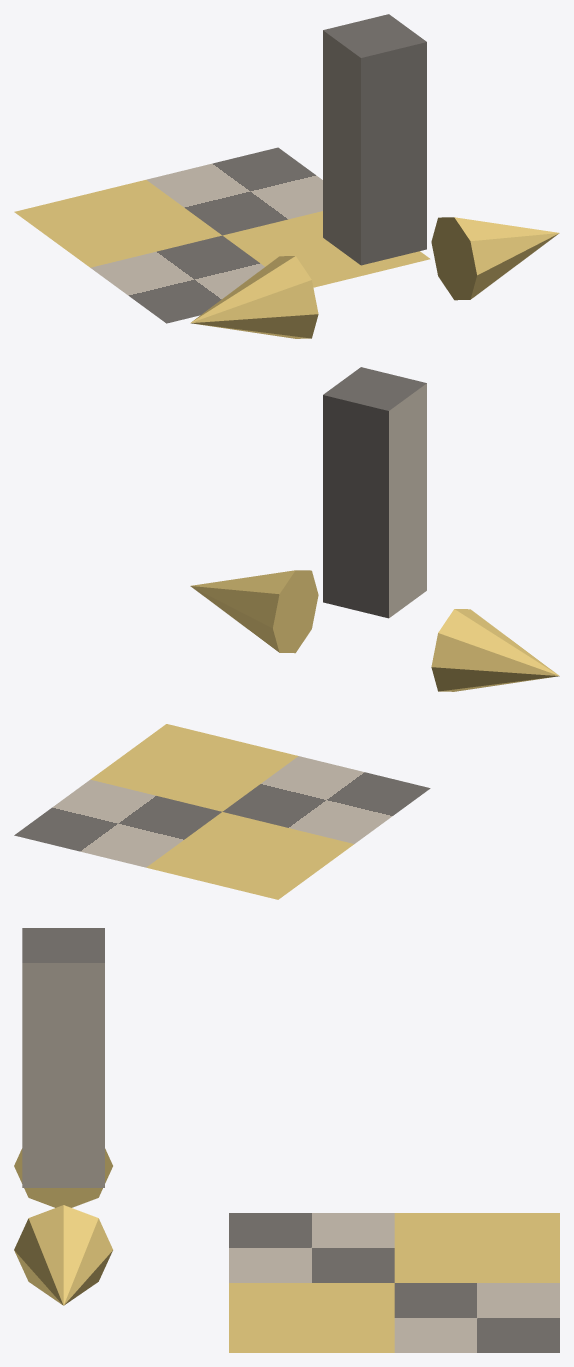
3 views of the same model, one above another, from view 1: azimuth 30°, elevation 25°; view 2: azimuth 150°, elevation 25°; view 3: azimuth 270°, elevation 25° (orthographic). The views are drawn at different scales.
Visible parts, largest first — view 1: panel, column, arm, arm_mirror; view 2: panel, column, arm, arm_mirror; view 3: panel, column, arm, arm_mirror.
Part boxes in pixels (x1=…): panel: x1=14, y1=147, x2=430, y2=323; column: x1=323, y1=14, x2=426, y2=265; arm: x1=431, y1=217, x2=559, y2=300; arm_mirror: x1=190, y1=256, x2=318, y2=338; panel: x1=14, y1=724, x2=430, y2=899; column: x1=323, y1=367, x2=426, y2=618; arm: x1=190, y1=570, x2=318, y2=653; arm_mirror: x1=431, y1=609, x2=559, y2=691; panel: x1=229, y1=1213, x2=559, y2=1352; column: x1=22, y1=928, x2=104, y2=1187; arm: x1=14, y1=1205, x2=112, y2=1305; arm_mirror: x1=14, y1=1148, x2=112, y2=1207.
Bounding box in the file's own units: 2.8 × 2.25 × 3.3.
Materials: 2 (1 with a texture image).
